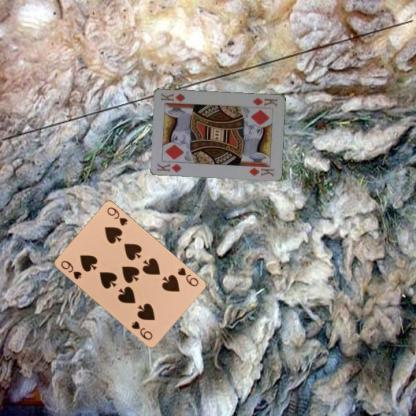9s: (174, 264, 200, 288), (58, 258, 82, 280)
Kd: (249, 96, 278, 110), (154, 161, 183, 173)
